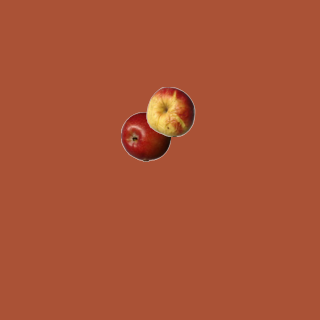Apple Braeburn: (120, 111, 170, 161)
Apple Red Yellow 1: (145, 86, 195, 136)
